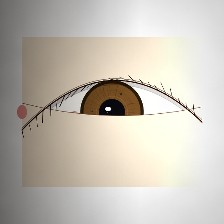hemorrhage_spot: (34, 94, 114, 159)
